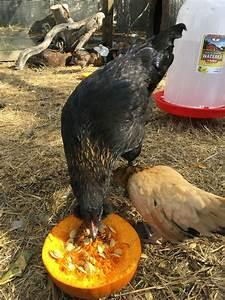hen: (59, 21, 187, 239)
